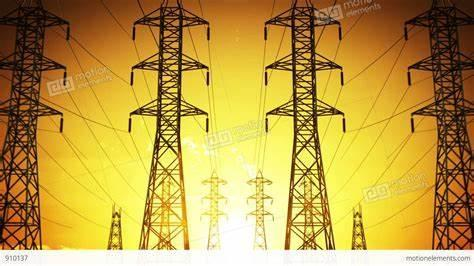power_tower: (264, 0, 350, 251), (125, 2, 208, 251), (0, 2, 78, 258), (400, 1, 474, 256), (245, 170, 274, 252), (200, 169, 226, 251), (345, 199, 373, 251)
